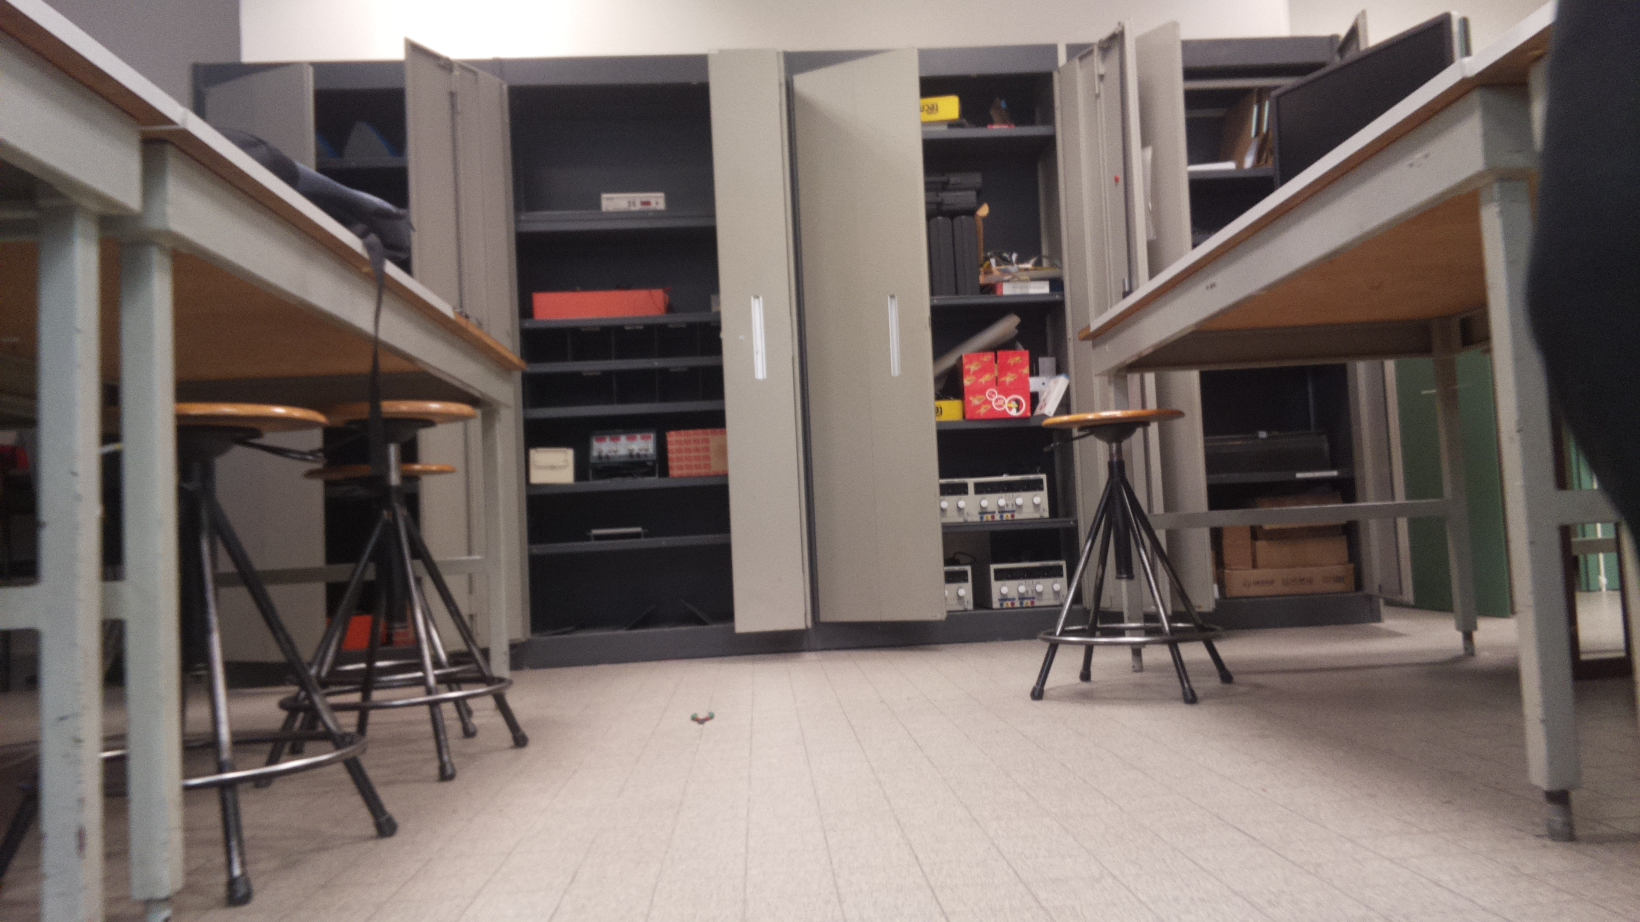small: (688, 710, 715, 726)
